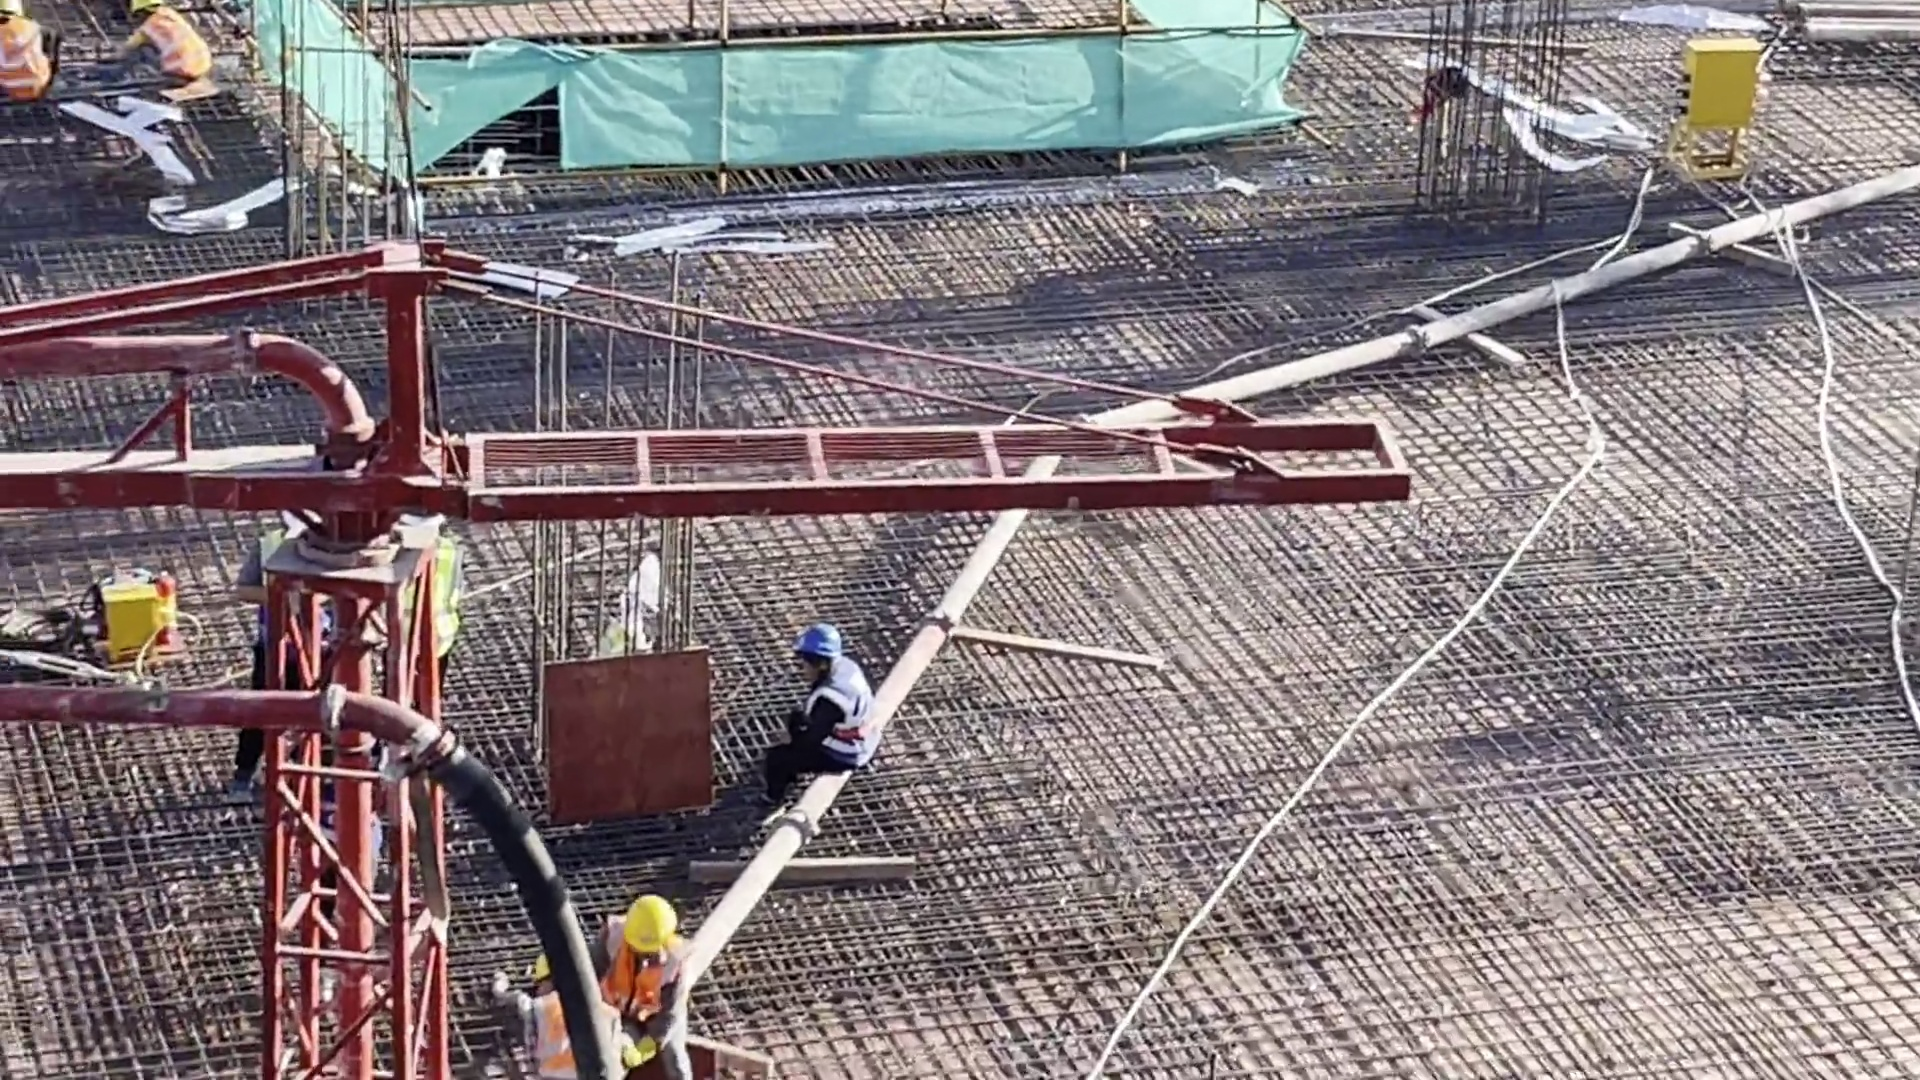ebox: (1679, 42, 1760, 129)
helmet: (624, 900, 679, 947), (794, 622, 838, 654)
person: (232, 513, 336, 789), (580, 890, 704, 1080), (766, 627, 864, 793), (384, 546, 469, 722), (506, 957, 619, 1080), (95, 1, 218, 97), (1, 1, 71, 122)
vest: (395, 554, 462, 657), (603, 939, 682, 1013), (800, 676, 865, 765), (250, 546, 311, 634), (529, 997, 592, 1080), (150, 15, 210, 82), (1, 20, 56, 83)
